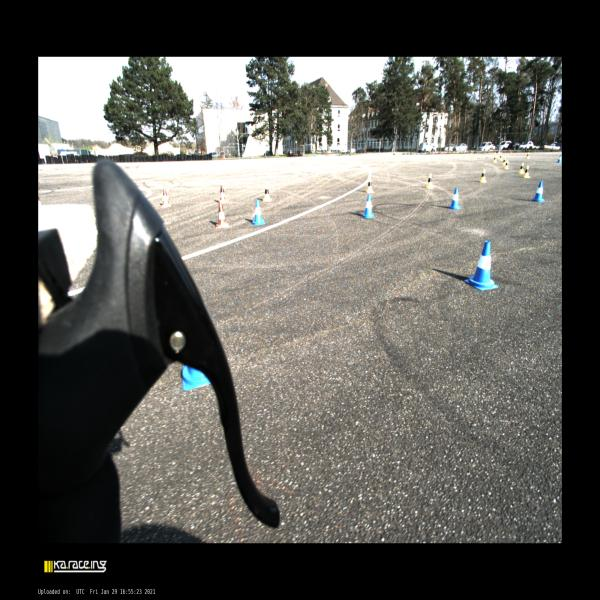blue_cone: (464, 241, 498, 290), (182, 366, 210, 390), (252, 200, 266, 226), (361, 194, 375, 218), (531, 181, 545, 202), (448, 188, 461, 210), (556, 154, 562, 163)
orange_cone: (216, 200, 229, 228), (161, 187, 171, 207), (218, 184, 227, 203), (38, 196, 40, 200)
yellow_cone: (262, 182, 272, 202), (366, 176, 375, 193), (426, 173, 434, 189), (479, 168, 488, 182), (523, 165, 530, 178), (518, 162, 524, 174), (504, 160, 509, 169), (502, 157, 506, 165), (499, 154, 503, 161), (526, 152, 530, 159), (493, 156, 496, 163)
